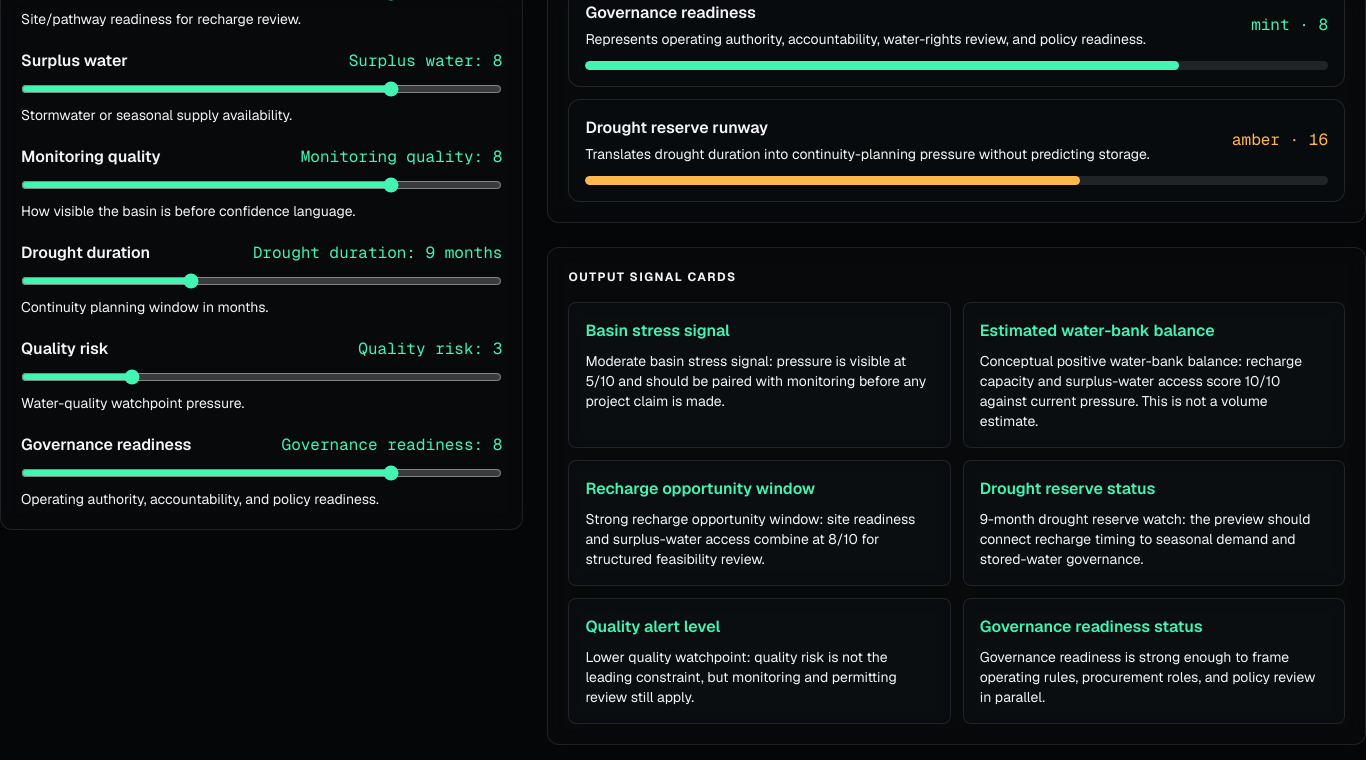
Test: WaterBankingPreview › updates quality alert language when quality risk changes
(page scrolled)
Expected: the text "quality risk is not the leading constraint" is shown, top-left (585, 648), bottom-right (897, 706)
Set the slider labelled "Quality risk" to "9": (443, 377) top-left (21, 369), bottom-right (502, 385)
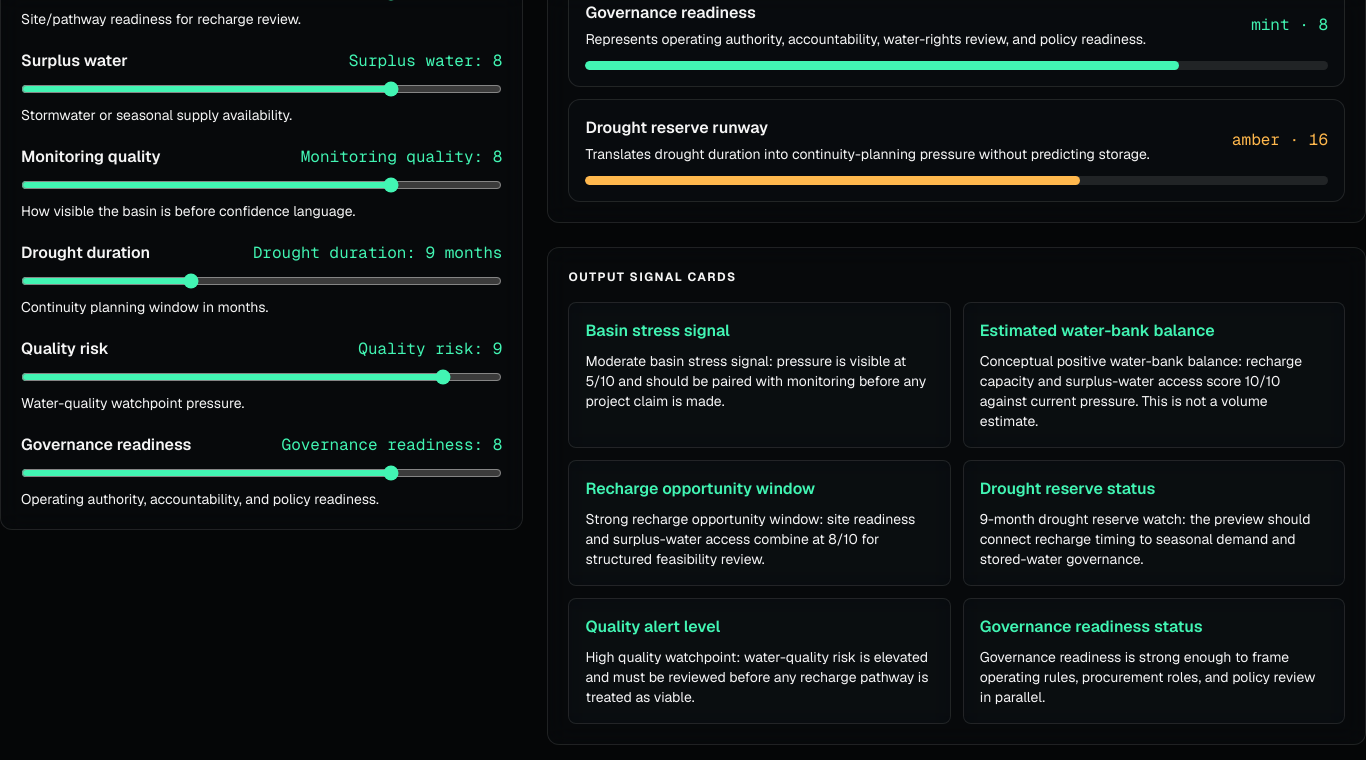
Expected: the text "High quality watchpoint" is shown, top-left (585, 648), bottom-right (928, 706)
